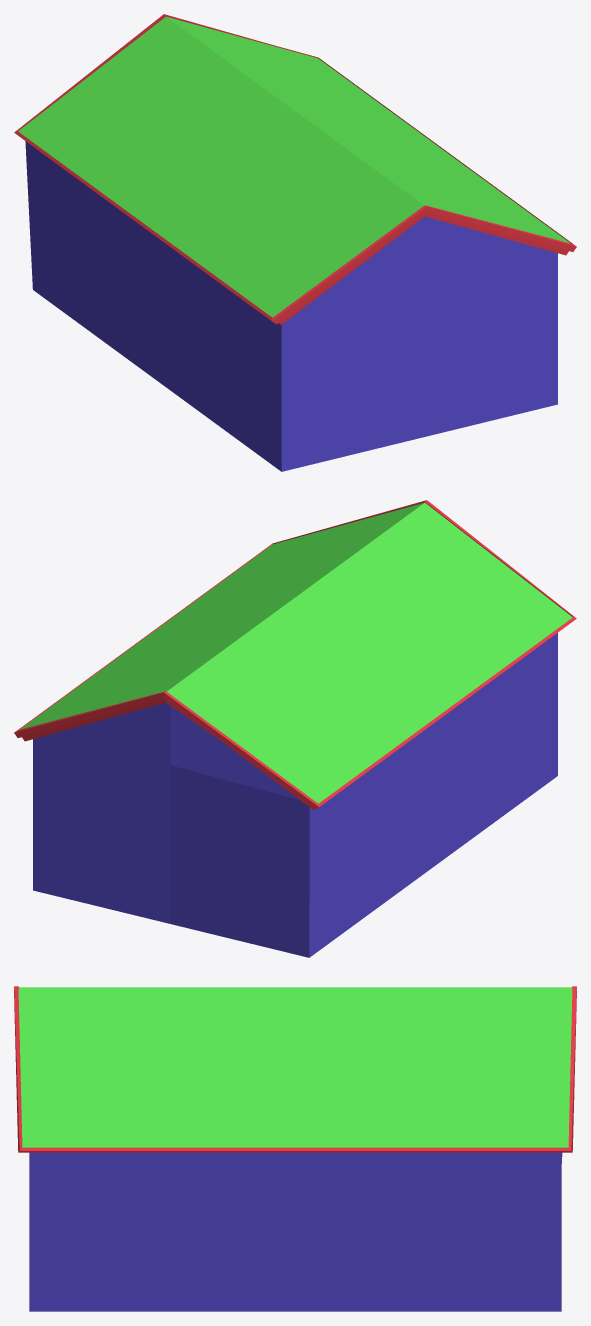
Rendered from house_base.glb.
The picture shows the model from 3 angles, top to bottom: view 1: azimuth 30°, elevation 25°; view 2: azimuth 150°, elevation 25°; view 3: azimuth 270°, elevation 25°; orthographic projection. The views are drawn at different scales.
Parts seen in each view (by area): view 1: house_base; view 2: house_base; view 3: house_base.
Part boxes in pixels (<box>): house_base: <box>14,14,576,471</box>; house_base: <box>14,500,576,957</box>; house_base: <box>14,986,576,1311</box>.
Bounding box in the file's own units: 8.5 × 6.3 × 12.69.
